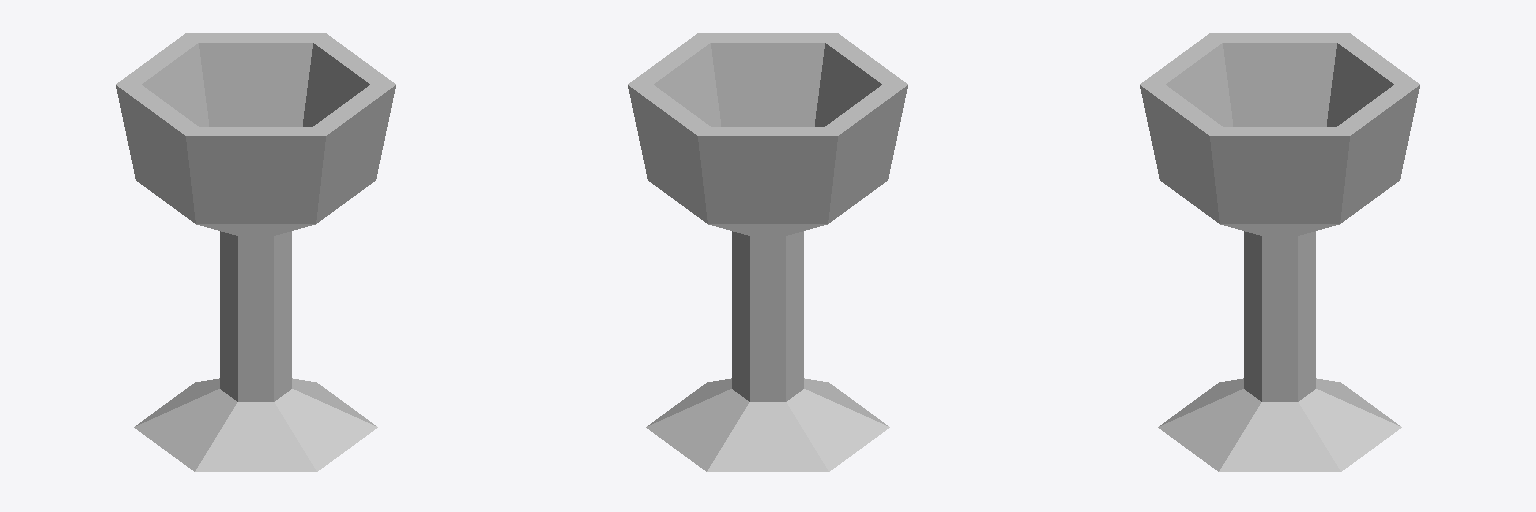
File: goblet_001.obj
The picture shows the model from 3 angles: view 1: azimuth 30°, elevation 25°; view 2: azimuth 150°, elevation 25°; view 3: azimuth 270°, elevation 25°; orthographic projection.
Visible parts, largest first — view 1: goblet_001_Cylinder.014; view 2: goblet_001_Cylinder.014; view 3: goblet_001_Cylinder.014.
Part boxes in pixels (left/top/right/bottom): goblet_001_Cylinder.014: left=116, top=33, right=395, bottom=471; goblet_001_Cylinder.014: left=628, top=33, right=907, bottom=471; goblet_001_Cylinder.014: left=1140, top=33, right=1419, bottom=471.
Bounding box in the file's own units: 0.1962 × 0.3051 × 0.2266.